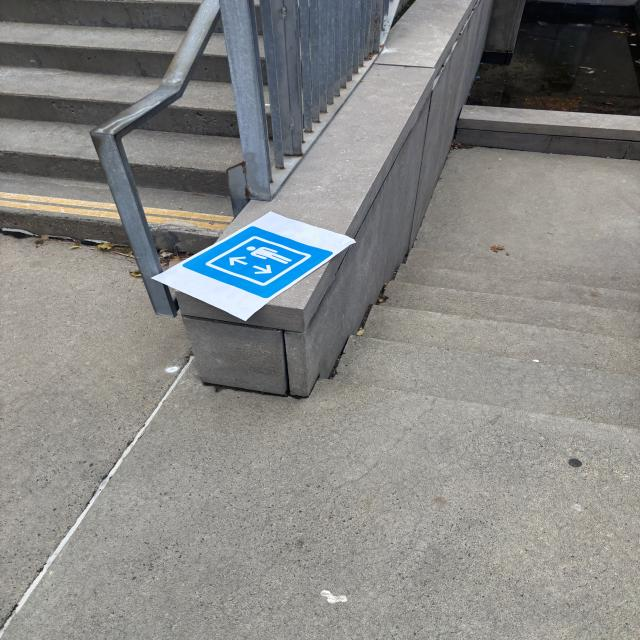elevator: (178, 225, 330, 296)
